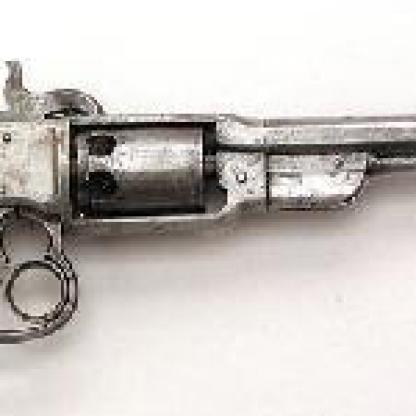gun: (0, 75, 413, 383)
